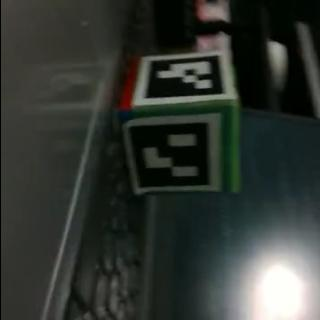armor: (125, 112, 221, 192), (133, 53, 235, 107)
robot: (116, 51, 240, 197)
